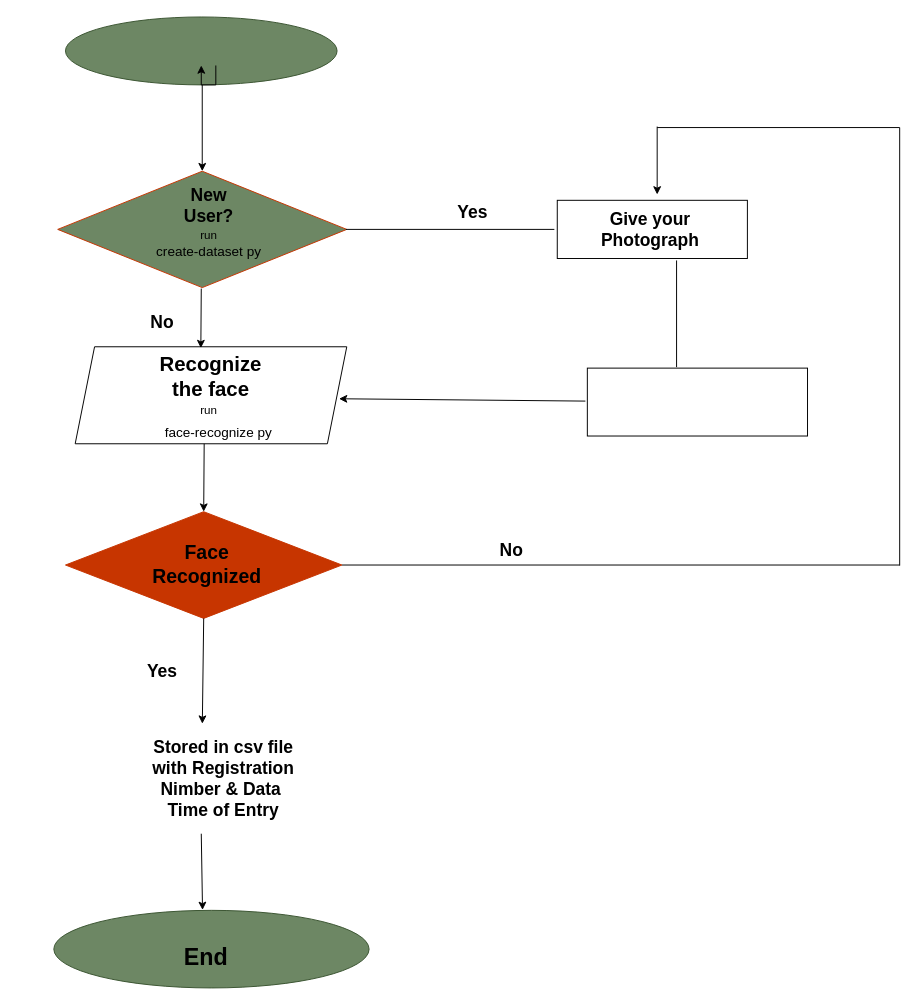
The diagram is 918 pixels wide and 1005 high, and some of its shapes have lost their labels. The shapes that lost their labels are listed below. From the top down, each one's box as (x1, y1, x2, y2) in pixels, then its label:
(65, 16, 337, 85): Start
(586, 367, 808, 436): Store the face data in folder on your name
